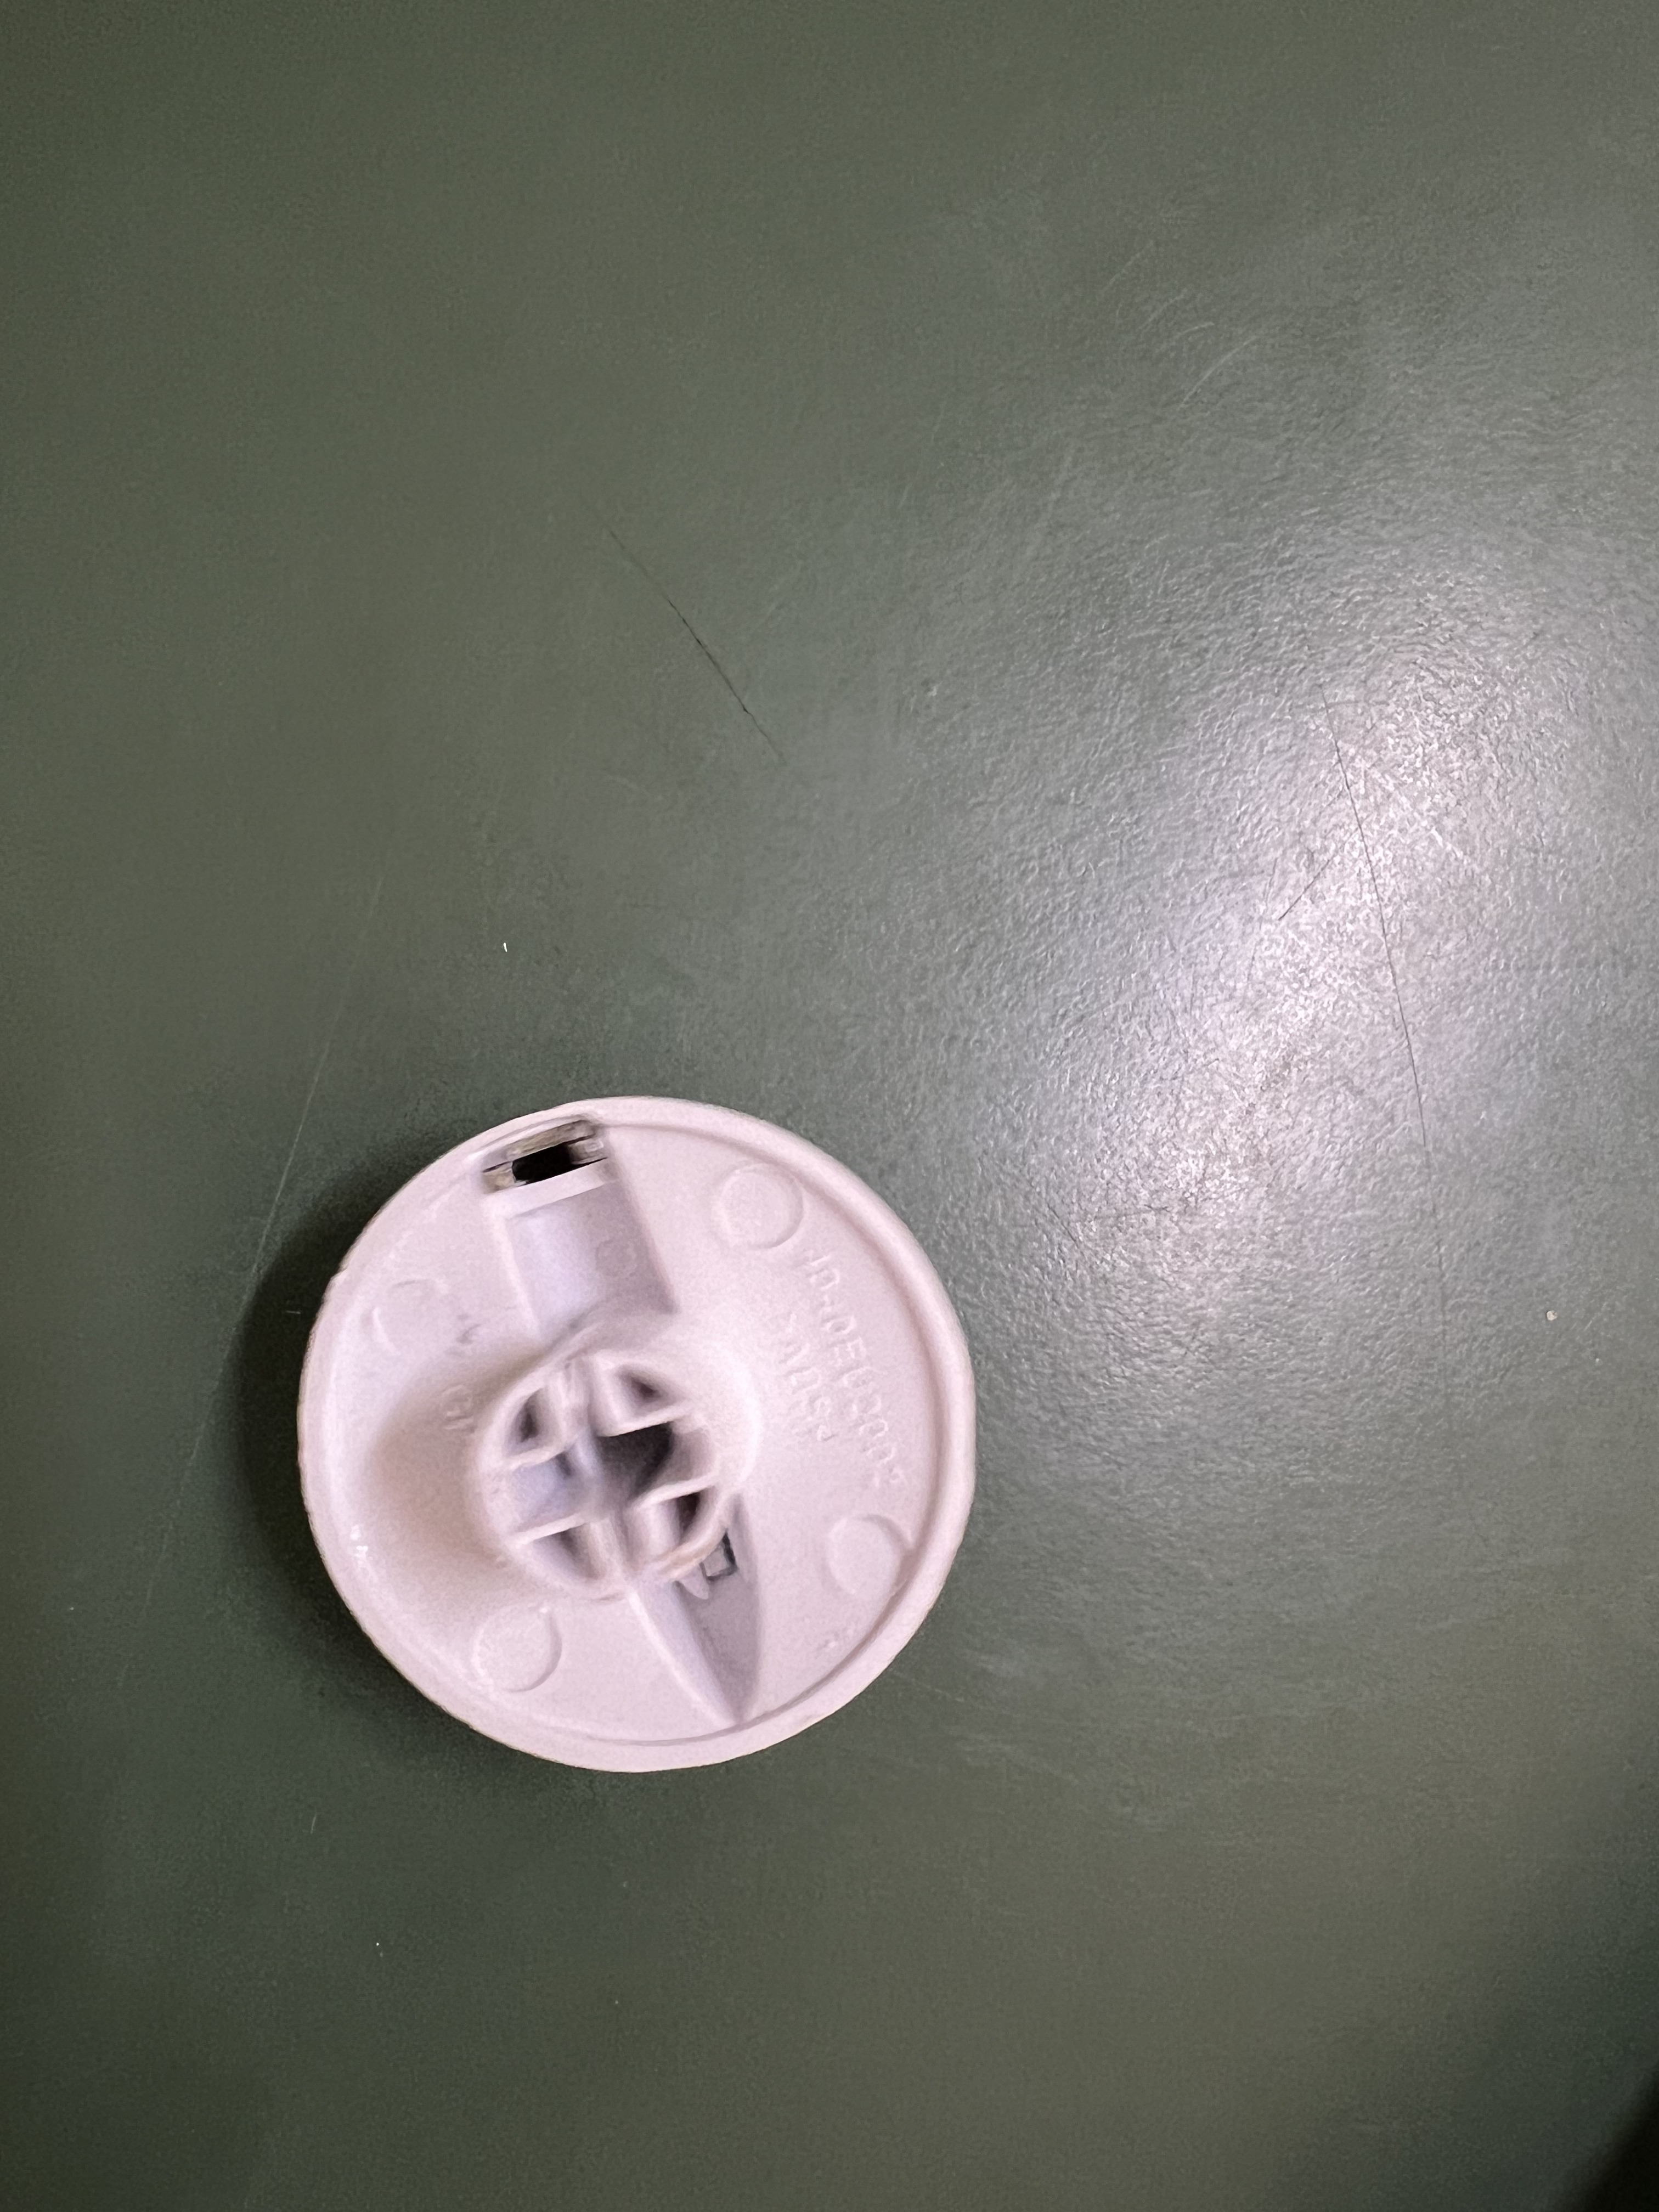regulator: (284, 1085, 997, 1789)
